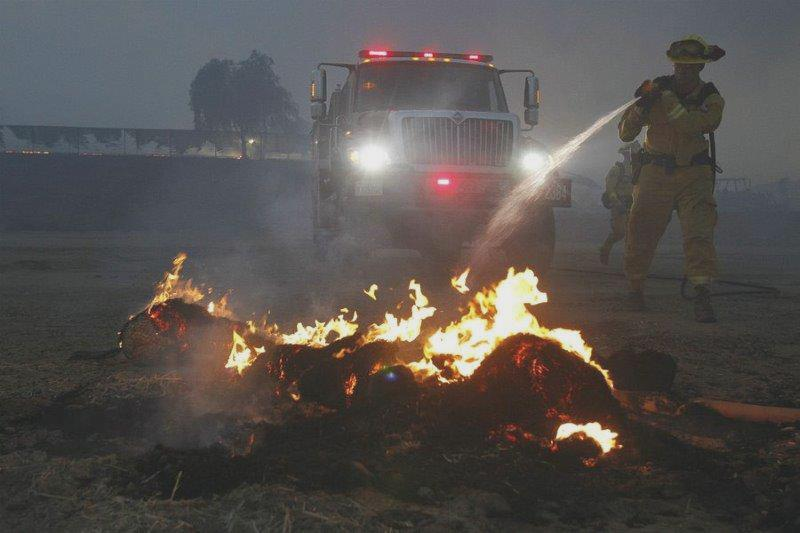Fire: (224, 263, 637, 400), (142, 247, 236, 322), (556, 416, 622, 458)
